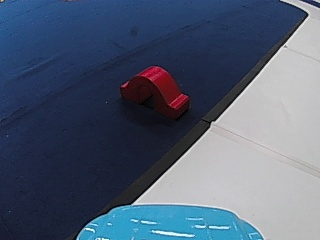bridge: (119, 61, 193, 122)
